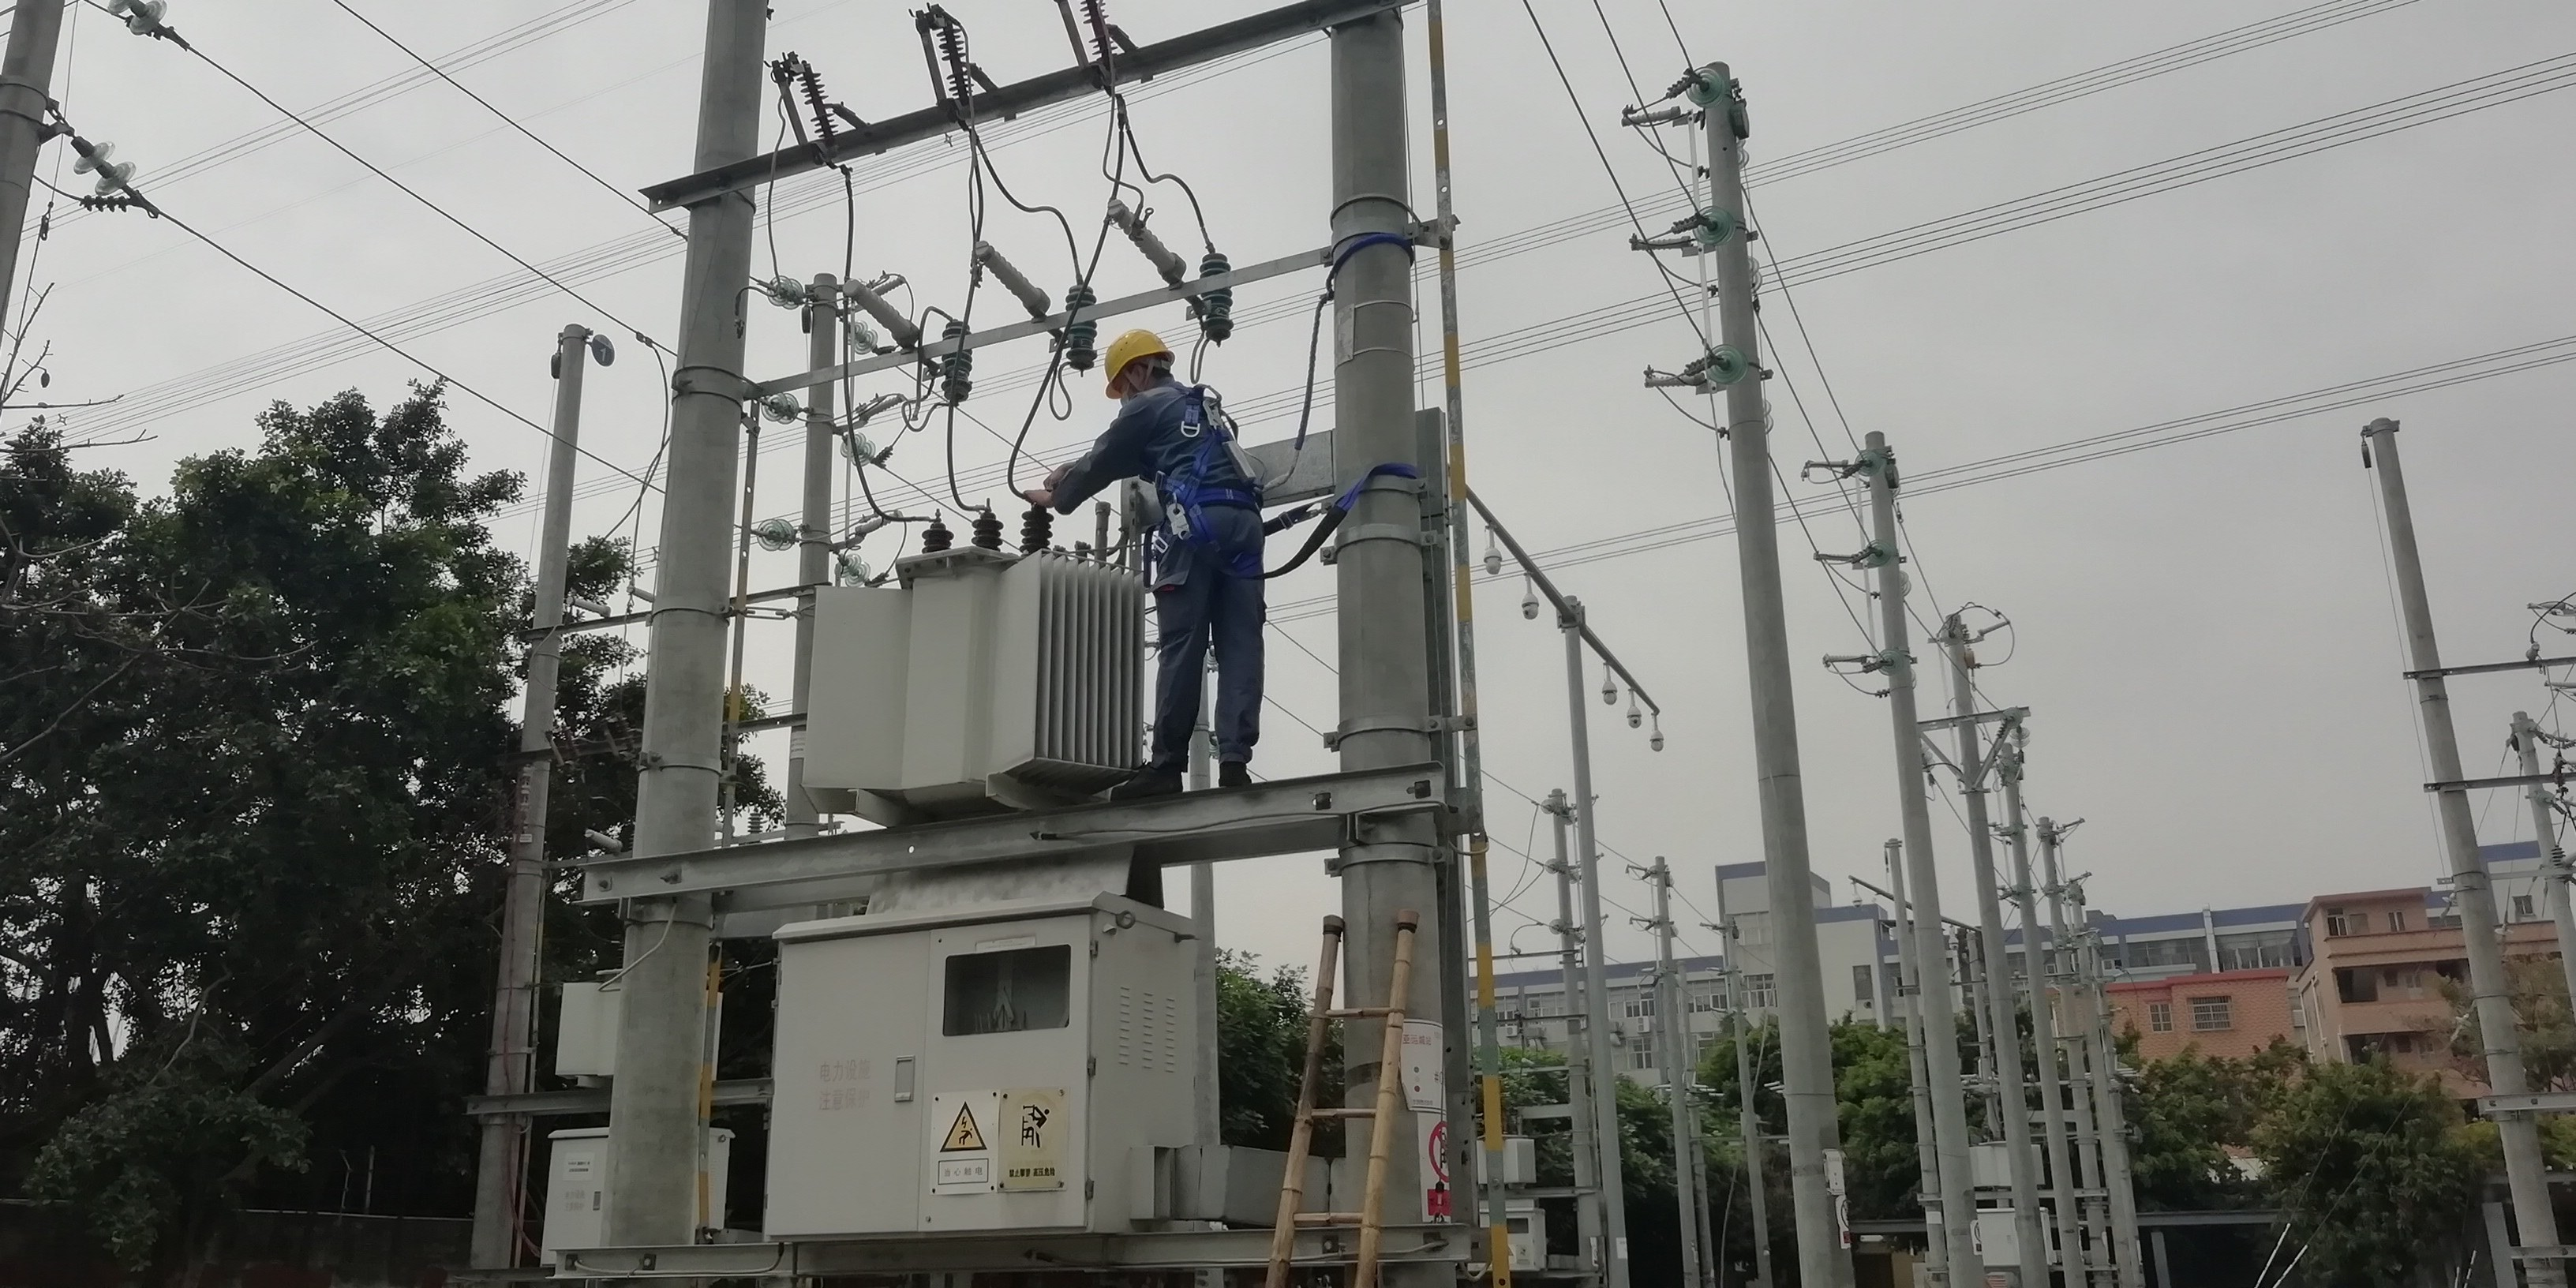downsuit: (1142, 527, 1272, 766)
upsuit: (1051, 391, 1258, 516)
